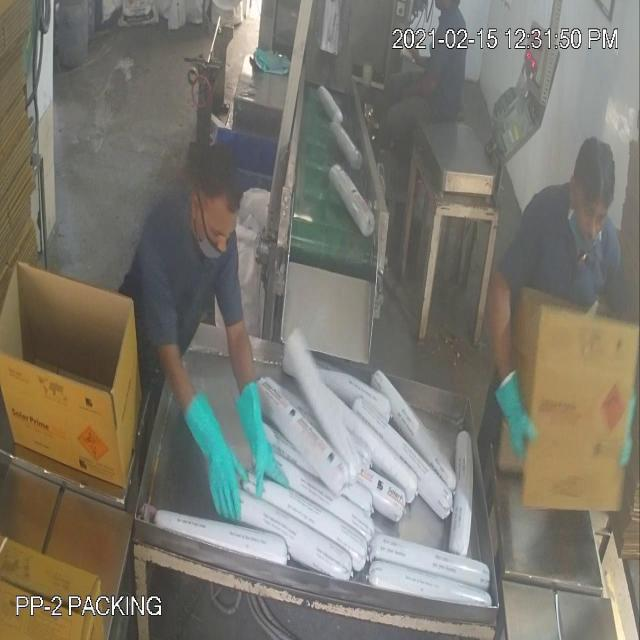Gloves: (63, 126, 519, 452)
